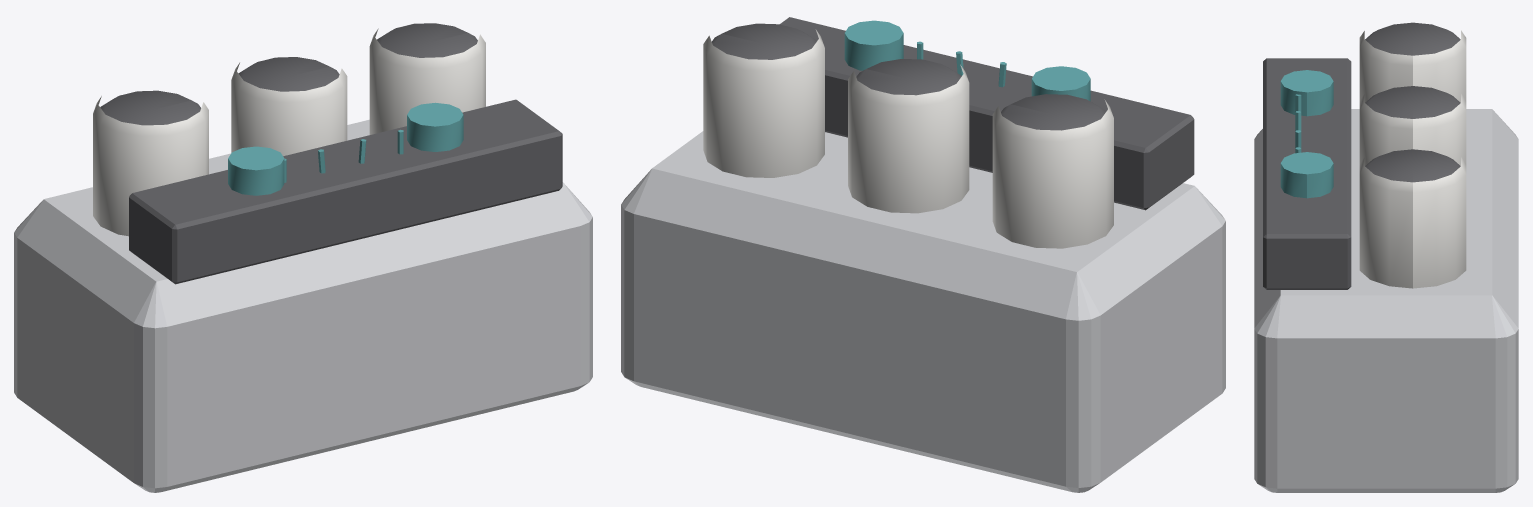
Rendered from fast-food-and-drive-thru-lid-and-straw-station-7f1e3f4f__16158.glb.
3 views of the same model, side by side, from view 1: azimuth 30°, elevation 25°; view 2: azimuth 150°, elevation 25°; view 3: azimuth 270°, elevation 25° (orthographic). The views are drawn at different scales.
Parts seen in each view (by area): view 1: lid-and-straw-station; view 2: lid-and-straw-station; view 3: lid-and-straw-station.
Part boxes in pixels (x1,y1,x2,y2): lid-and-straw-station: (14,23,592,492); lid-and-straw-station: (621,17,1225,492); lid-and-straw-station: (1254,22,1518,492).
Size of the model in its own units: 0.56 by 0.37 by 0.3.
